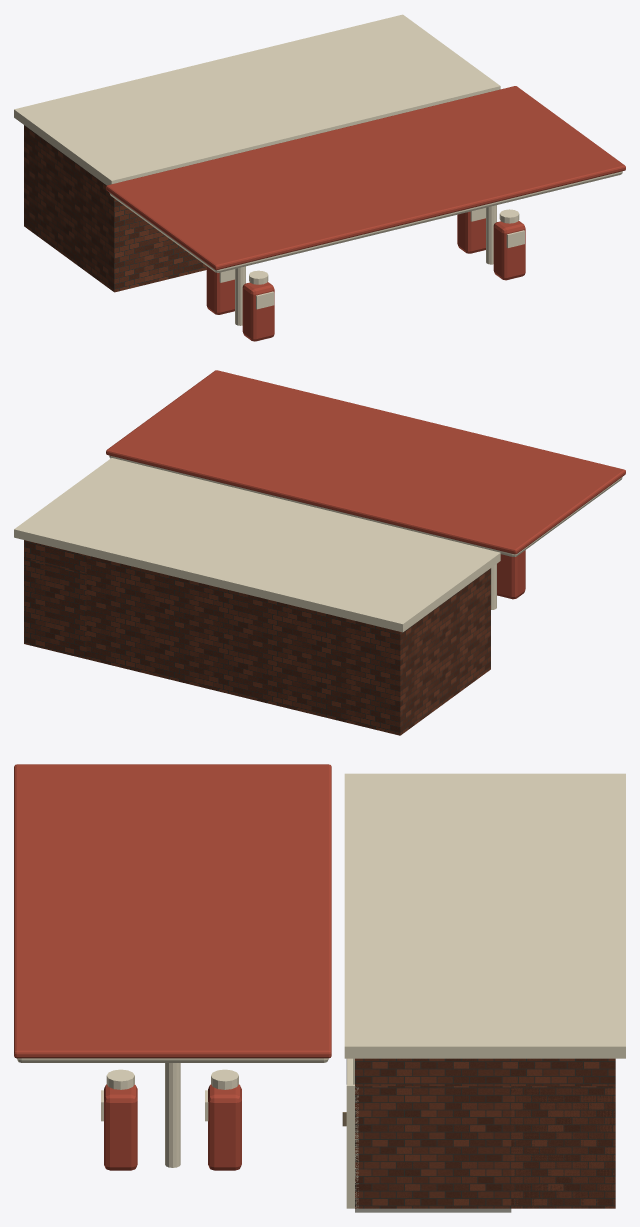
The model's file is filling.glb.
The picture shows the model from 3 angles, top to bottom: view 1: azimuth 30°, elevation 25°; view 2: azimuth 150°, elevation 25°; view 3: azimuth 270°, elevation 25°; orthographic projection. The views are drawn at different scales.
Visible parts, largest first — view 1: canopy stripe, office entry jamb, station office wing; view 2: station office wing, canopy stripe, office entry jamb; view 3: canopy stripe, office entry jamb, station office wing, station vestibule paving.
Part boxes in pixels (bbox=[...]): canopy stripe: bbox=[106, 86, 625, 341]; office entry jamb: bbox=[14, 14, 622, 325]; station office wing: bbox=[24, 125, 206, 292]; station office wing: bbox=[24, 540, 490, 735]; canopy stripe: bbox=[106, 370, 625, 599]; office entry jamb: bbox=[14, 455, 622, 632]; canopy stripe: bbox=[14, 764, 331, 1170]; office entry jamb: bbox=[17, 773, 625, 1208]; station office wing: bbox=[355, 1058, 615, 1208]; station vestibule paving: bbox=[355, 1208, 511, 1212].
Size of the model in its own units: 13.1 by 3.66 by 11.75.
Materials: 6 (1 with a texture image).
